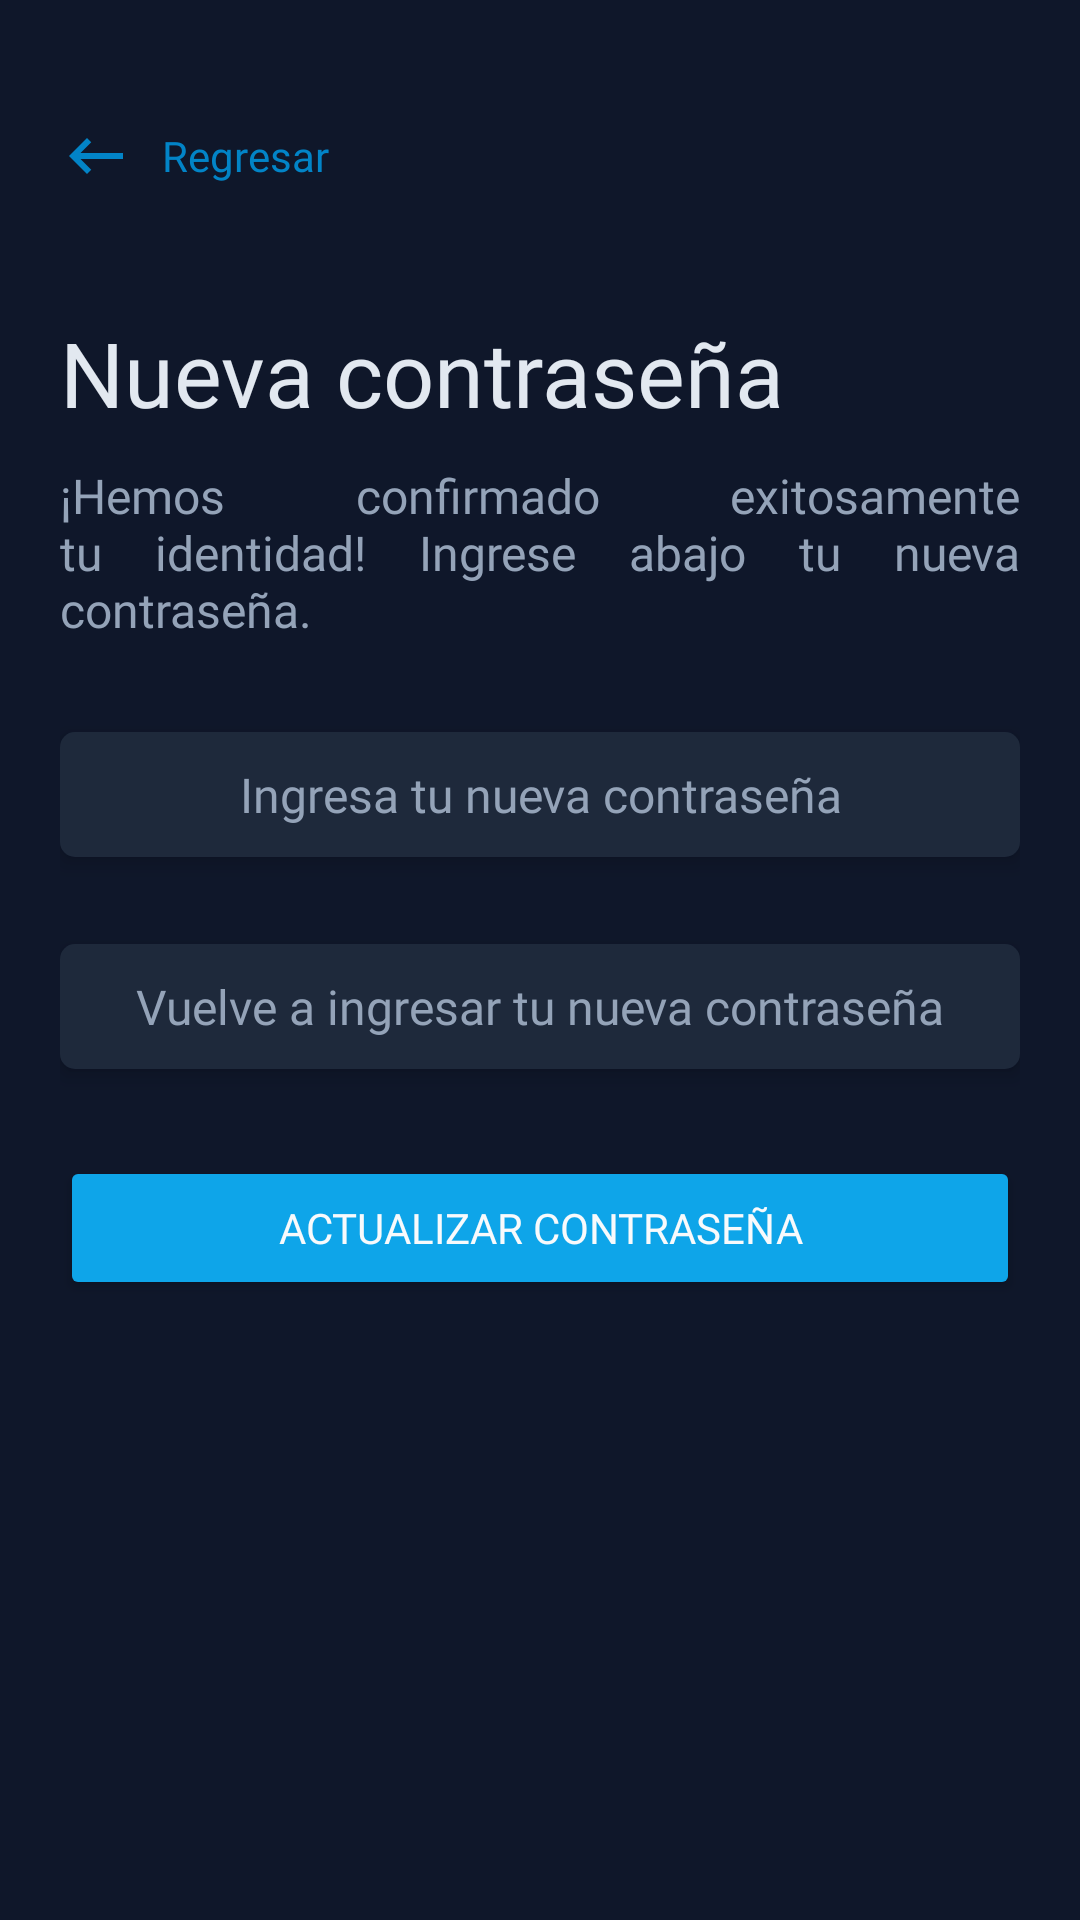

Screen size 1080w x 1920h. Icon name, then its center in pixels as (x=x, y=y):
keyboard backspace: (x=96, y=156)
